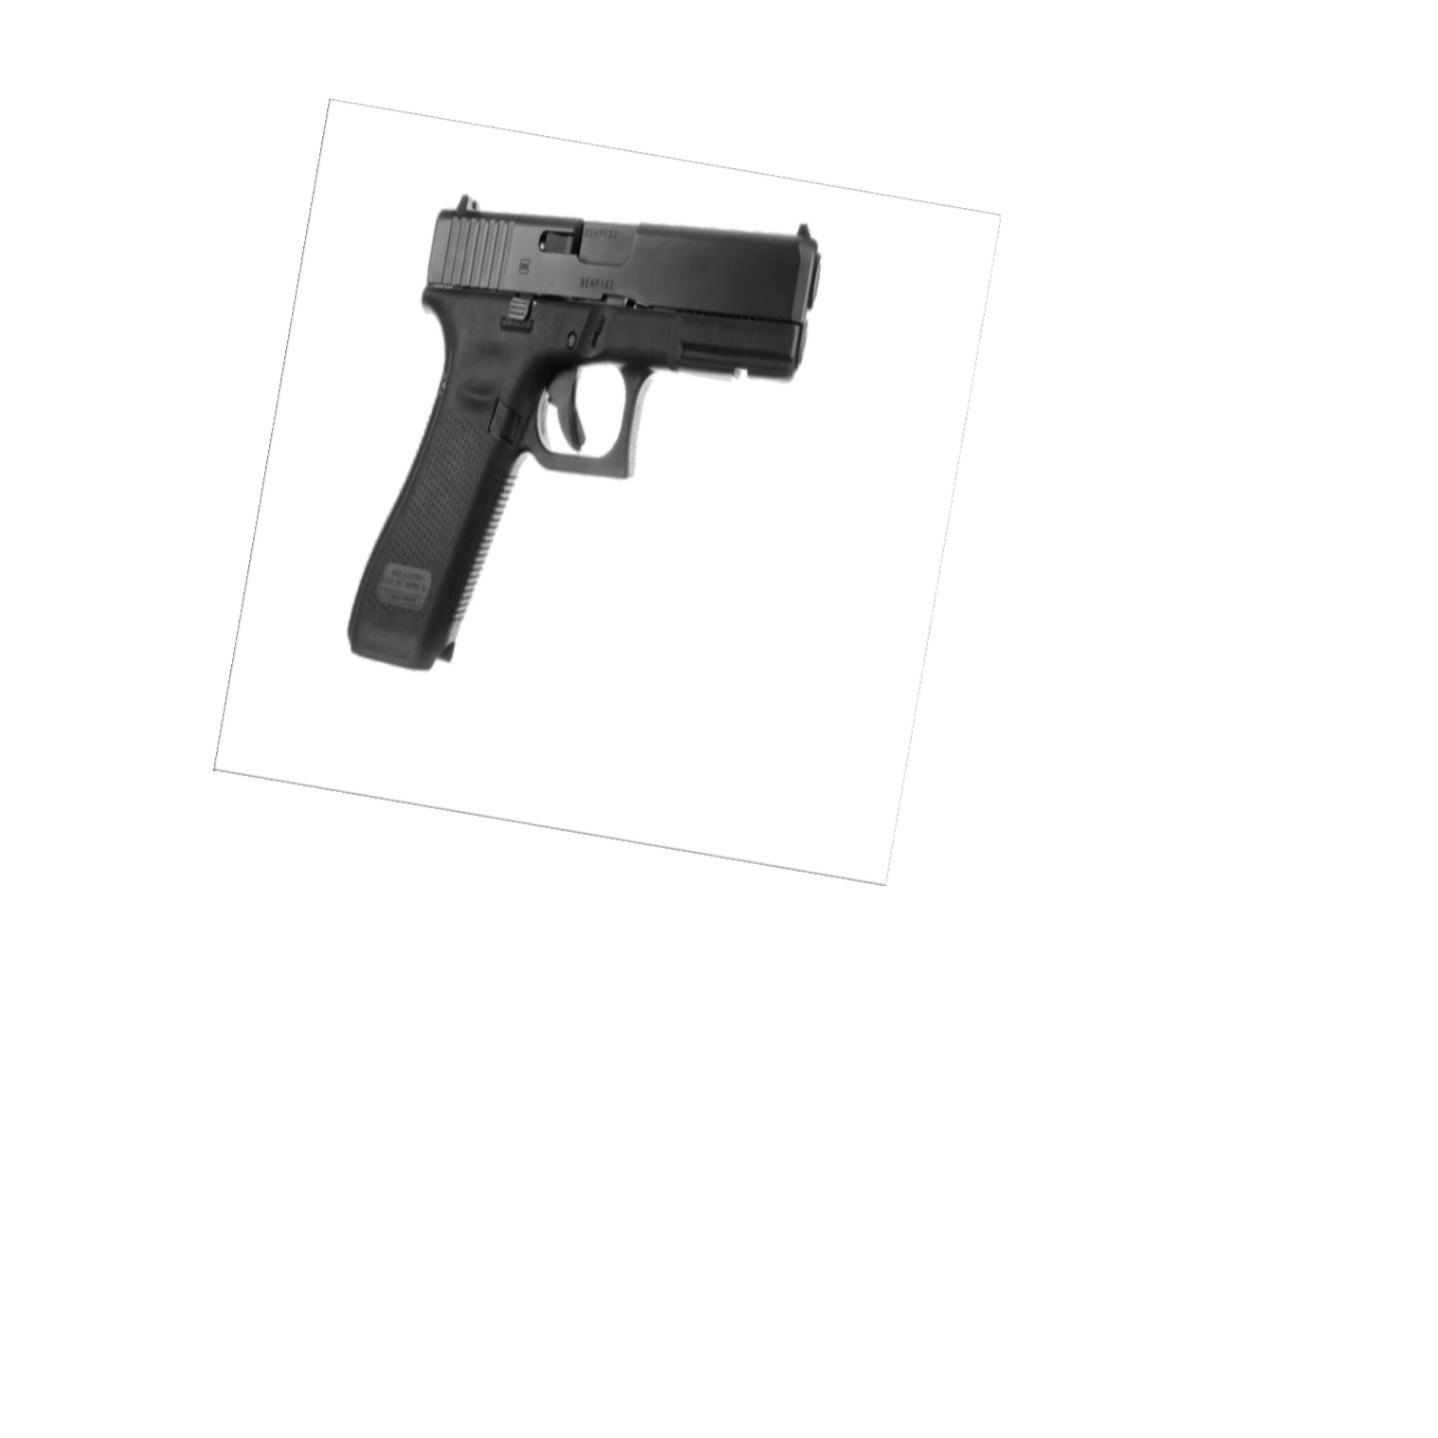gun: (348, 194, 822, 672)
